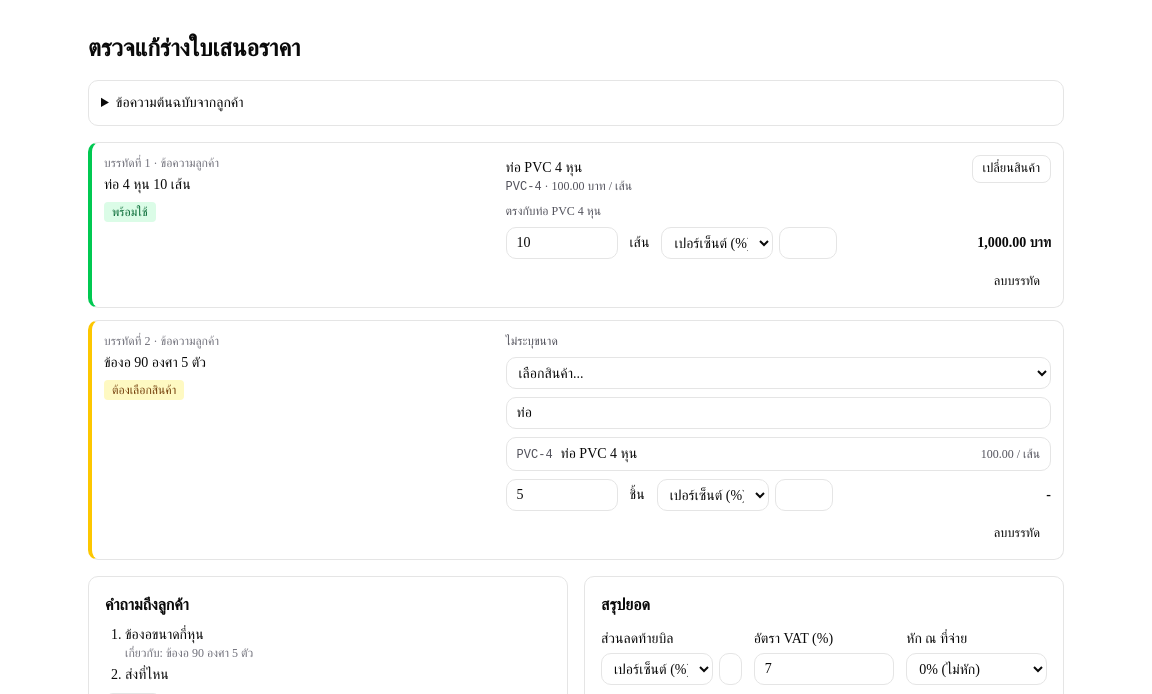
Test: approval gate › disables อนุมัติ while a yellow line is unresolved and enables it after choosing from the dropdown
Select "ELB-B · ข้องอ 90 องศา 6 หุน · 30.00 บาท / ชิ้น" in the dropdown named "เลือกสินค้า บรรทัดที่ 2" at [778, 373], box [506,357,1051,389]
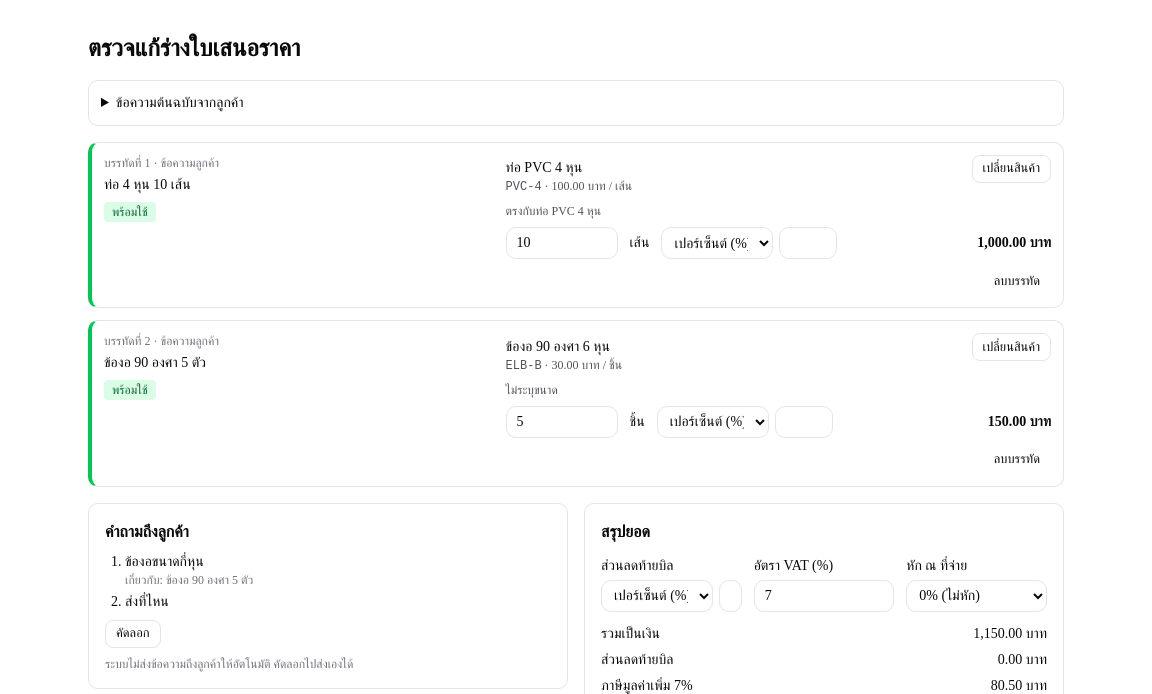
Expected: the text "พร้อมใช้" below "บรรทัดที่ 2" is shown, [112,383,148,397]
Expected: the text "ELB-B" is shown, [506,359,542,373]
